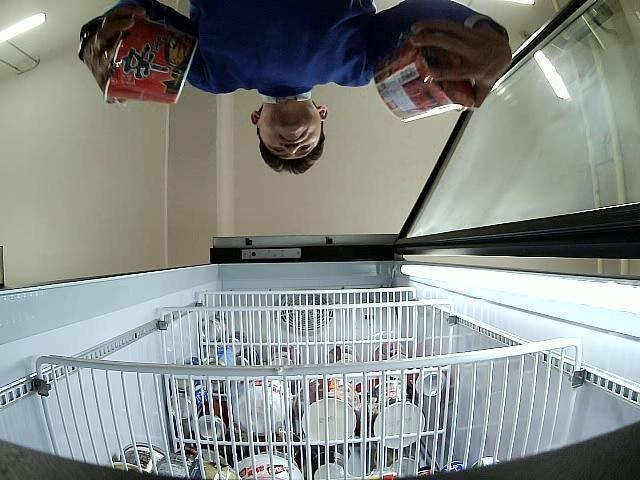01_ShinRamen_L: (104, 0, 200, 106), (372, 32, 477, 121)
